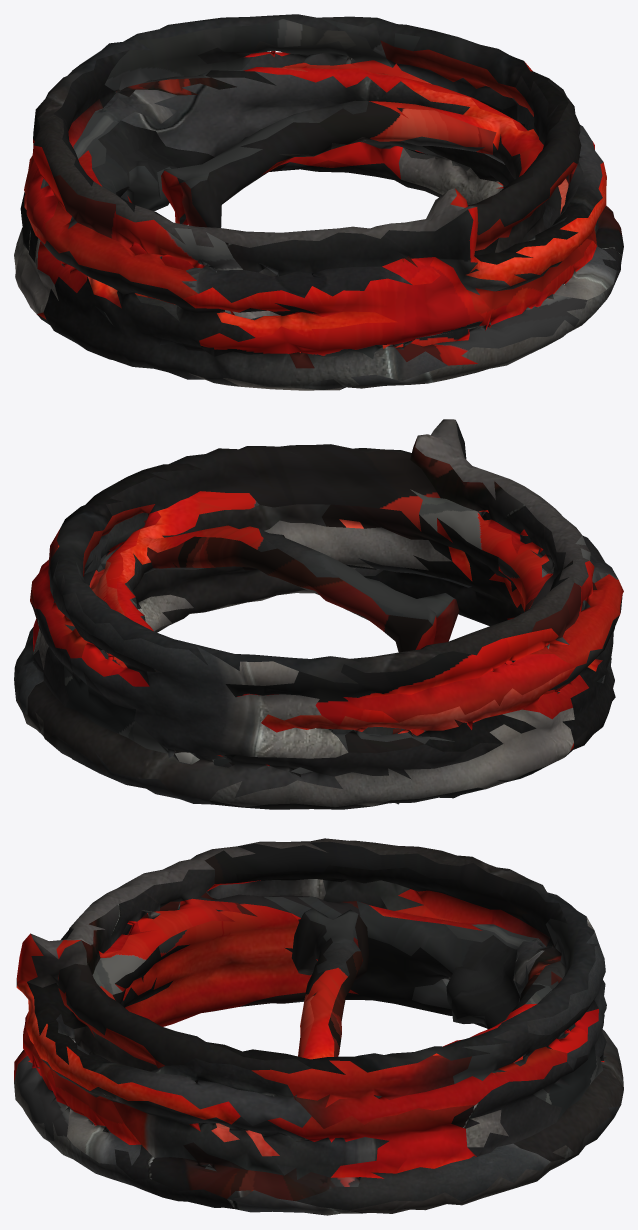
3 views of the same model, one above another, from view 1: azimuth 30°, elevation 25°; view 2: azimuth 150°, elevation 25°; view 3: azimuth 270°, elevation 25° (orthographic).
Visible parts, largest first — view 1: input; view 2: input; view 3: input.
Boxes of the visible parts, x1=… form: input: x1=14, y1=14, x2=623, y2=390; input: x1=14, y1=419, x2=623, y2=809; input: x1=14, y1=838, x2=623, y2=1215.
Bounding box in the file's own units: 1 × 0.3073 × 1.01.
